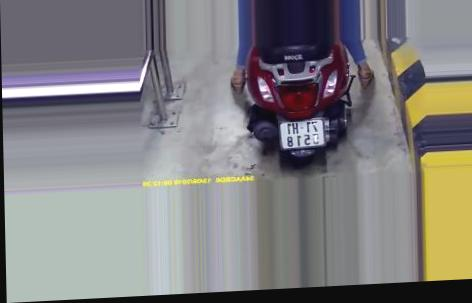License_Plate: (276, 113, 330, 155)
